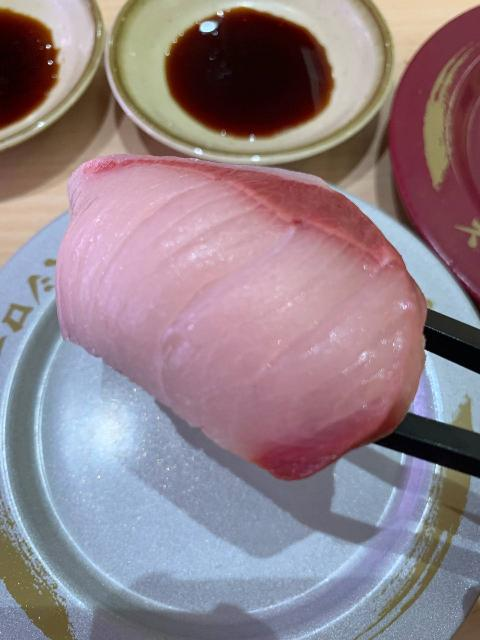janred: (368, 0, 480, 282)
janwhite: (28, 218, 480, 640)
